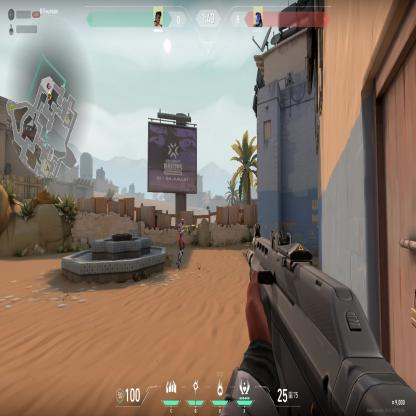enemy: (176, 217, 192, 271)
